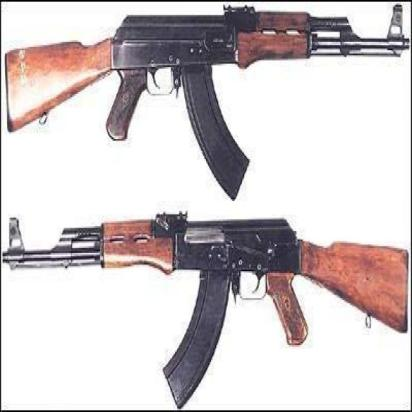Gun: (1, 1, 411, 202), (3, 206, 412, 402)
